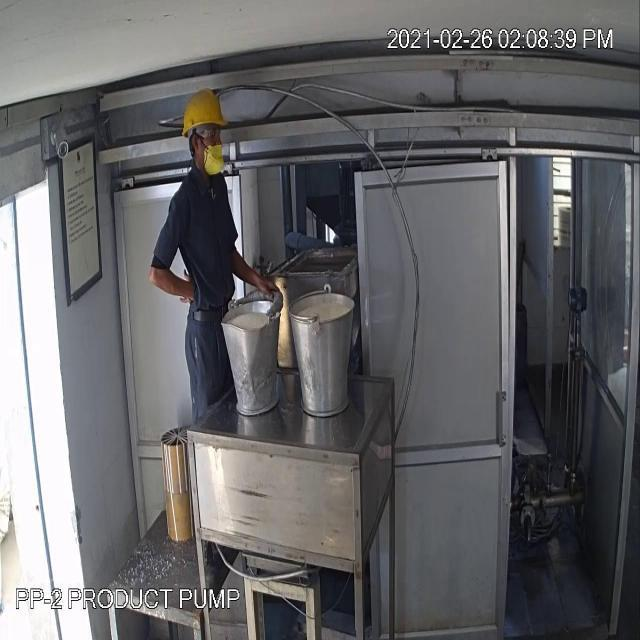hat: (177, 76, 231, 144)
